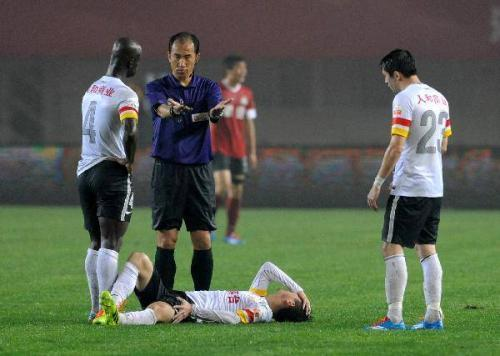down: (90, 257, 315, 326)
up: (360, 44, 456, 335), (141, 29, 233, 296), (70, 34, 146, 325), (207, 51, 261, 250)
